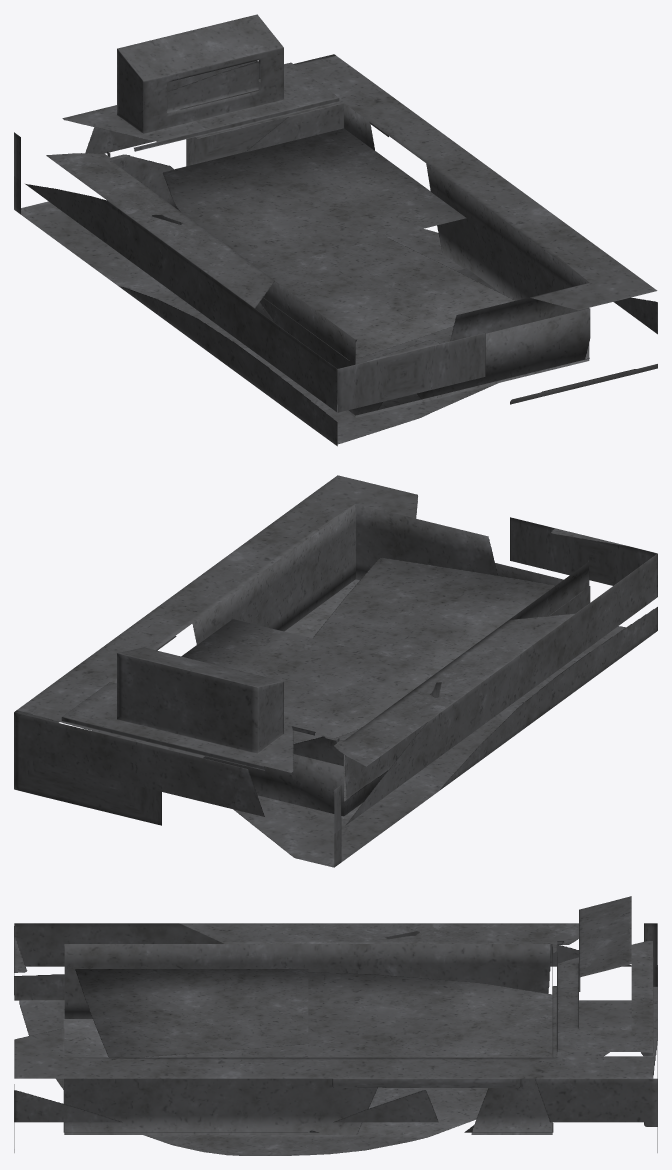
Rendered from grave_01.fbx.
3 renders of one model, top to bottom at view 1: azimuth 30°, elevation 25°; view 2: azimuth 150°, elevation 25°; view 3: azimuth 270°, elevation 25°, orthographic.
Parts seen in each view (by area): view 1: grave; view 2: grave; view 3: grave.
Boxes of the visible parts, x1,y1,x2,y2 form: grave: (14, 14, 657, 446); grave: (14, 475, 657, 867); grave: (14, 896, 657, 1155).
Bounding box in the file's own units: 201 × 89.26 × 351.
